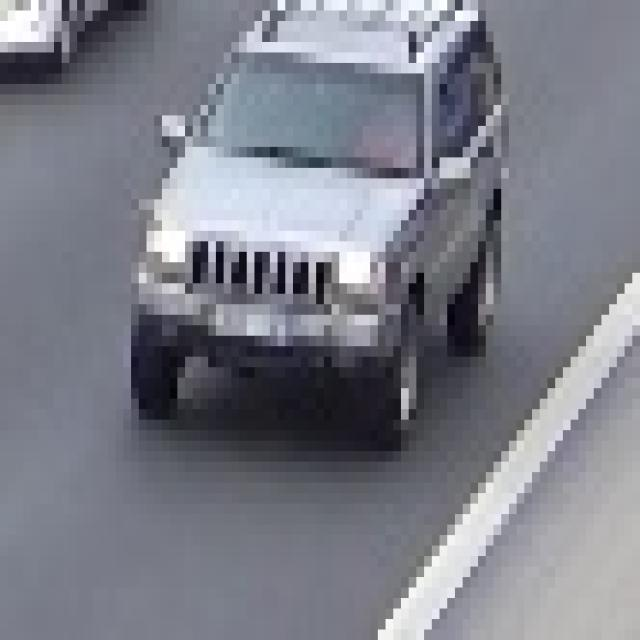SUV: (138, 3, 488, 425), (0, 0, 139, 63)
